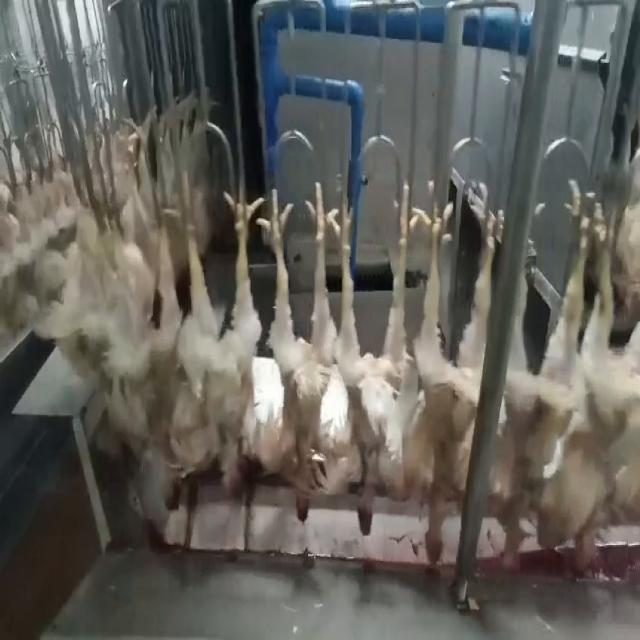chicken: (485, 182, 587, 579), (547, 168, 639, 577), (403, 179, 498, 565), (335, 174, 412, 536), (263, 186, 337, 531), (184, 184, 262, 504), (130, 187, 186, 519)
